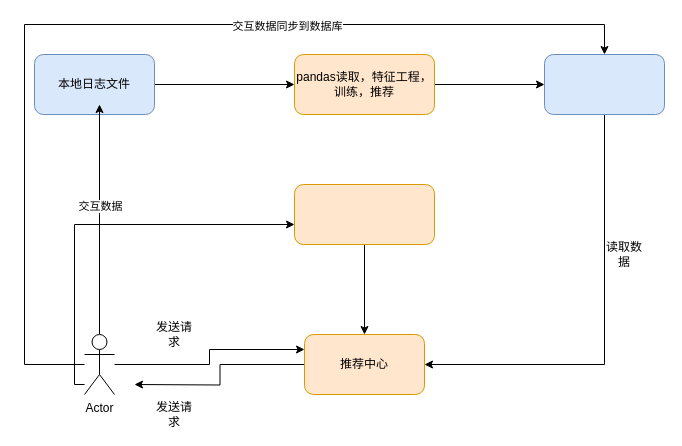
This 682x446 diagram has some shape labels left out. The centre of each missing label's shape, as x and y in pixels:
"在用户做出评价后，为用户推荐相似电影，热门电影" goes at point (364, 214).
"推荐结果保存在mysql" goes at point (604, 84).
